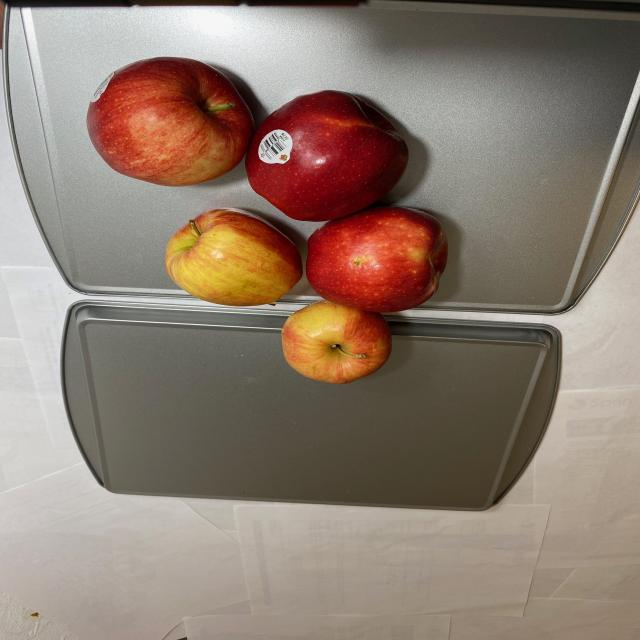apple: (87, 55, 451, 386)
